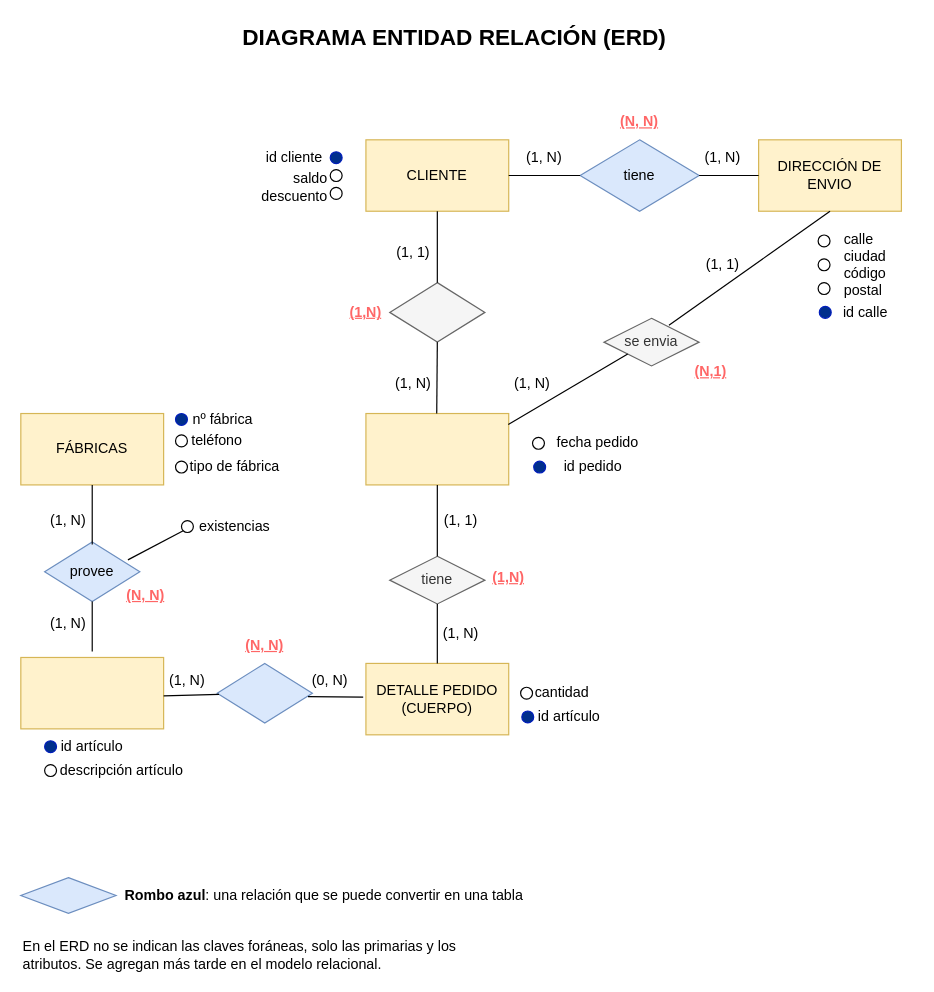
Image size: 934x992. Some labels were removed from this diagram. The shapes that lost their labels are listed below. From the top down, each one's box as (x1, y1, x2, y2) in pixels, then its label:
(389, 281, 485, 342): realiza
(365, 412, 509, 485): PEDIDO
(20, 656, 164, 729): ARTÍCULO
(216, 662, 312, 723): aparece
